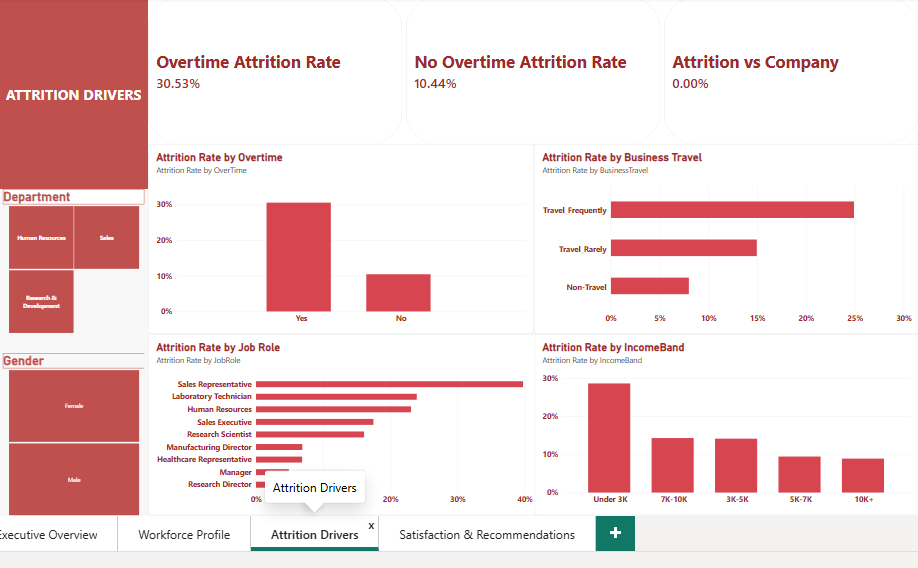

The dashboard page shown, as its layout file describes it:
{"tool":"powerbi","page":{"name":"Attrition Drivers","canvas":[1920,1080],"ordinal":2},"visuals":[{"type":"cardVisual","fields":{"Data":["measures (2).Overtime Attrition Rate","measures (2).No Overtime Attrition Rate","measures (2).Attrition vs Company"]},"box":[311.1,0,1608.9,303.9],"z":0},{"type":"shape","box":[0,0,310.7,398.2],"z":1},{"type":"slicer","fields":{"Values":["HR.Department"]},"box":[0,398.2,310.7,302.3],"z":2},{"type":"slicer","fields":{"Values":["HR.Gender"]},"box":[0,740.2,310.7,339.8],"z":3},{"type":"clusteredColumnChart","title":"Attrition Rate by Overtime","fields":{"Category":["HR.OverTime"],"Y":["measures (2).Attrition Rate"]},"box":[310.7,304.4,804.8,396.1],"z":4},{"type":"clusteredBarChart","title":"Attrition Rate by Business Travel","fields":{"Category":["HR.BusinessTravel"],"Y":["measures (2).Attrition Rate"]},"box":[1115.2,304.4,804.8,396.1],"z":5},{"type":"clusteredBarChart","title":"Attrition Rate by Job Role","fields":{"Category":["HR.JobRole"],"Y":["measures (2).Attrition Rate"]},"box":[311.1,701.5,819.5,377.6],"z":6},{"type":"clusteredColumnChart","title":"Attrition Rate by IncomeBand","fields":{"Category":["HR.IncomeBand"],"Y":["measures (2).Attrition Rate"]},"box":[1115.5,701.5,804.5,377.6],"z":7}]}

Visuals, with their boxes on the page's 1920x1080 design canvas (x1, y1, x2, y2). These are canvas units, not pixel positions in the 918x568 screenshot, which may show the page scaled, cropped or inside an application window:
cardVisual - measures (2).Overtime Attrition Rate x measures (2).No Overtime Attrition Rate: [x1=311, y1=0, x2=1920, y2=304]
shape: [x1=0, y1=0, x2=311, y2=398]
slicer - HR.Department: [x1=0, y1=398, x2=311, y2=700]
slicer - HR.Gender: [x1=0, y1=740, x2=311, y2=1080]
"Attrition Rate by Overtime" clusteredColumnChart: [x1=311, y1=304, x2=1116, y2=700]
"Attrition Rate by Business Travel" clusteredBarChart: [x1=1115, y1=304, x2=1920, y2=700]
"Attrition Rate by Job Role" clusteredBarChart: [x1=311, y1=702, x2=1131, y2=1079]
"Attrition Rate by IncomeBand" clusteredColumnChart: [x1=1116, y1=702, x2=1920, y2=1079]
